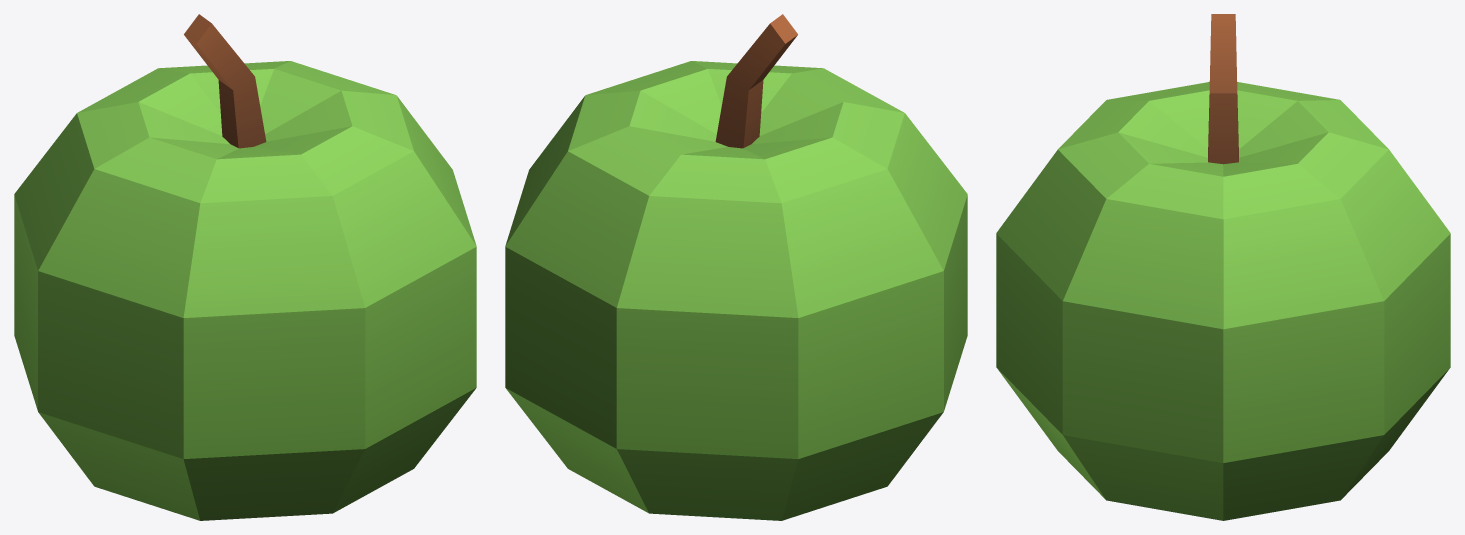
Rendered from Green Apple.fbx.
3 views of the same model, side by side, from view 1: azimuth 30°, elevation 25°; view 2: azimuth 150°, elevation 25°; view 3: azimuth 270°, elevation 25° (orthographic). The views are drawn at different scales.
Parts seen in each view (by area): view 1: Green Apple; view 2: Green Apple; view 3: Green Apple.
Boxes of the visible parts, x1=… form: Green Apple: x1=14, y1=14, x2=476, y2=520; Green Apple: x1=505, y1=14, x2=967, y2=520; Green Apple: x1=996, y1=14, x2=1450, y2=520.
Bounding box in the file's own units: 17.11 × 18.12 × 17.11.
